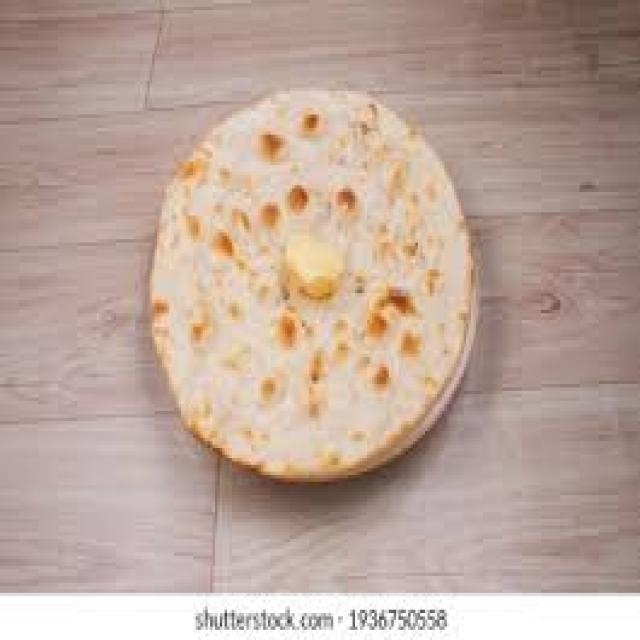ROTI: (147, 84, 471, 475)
